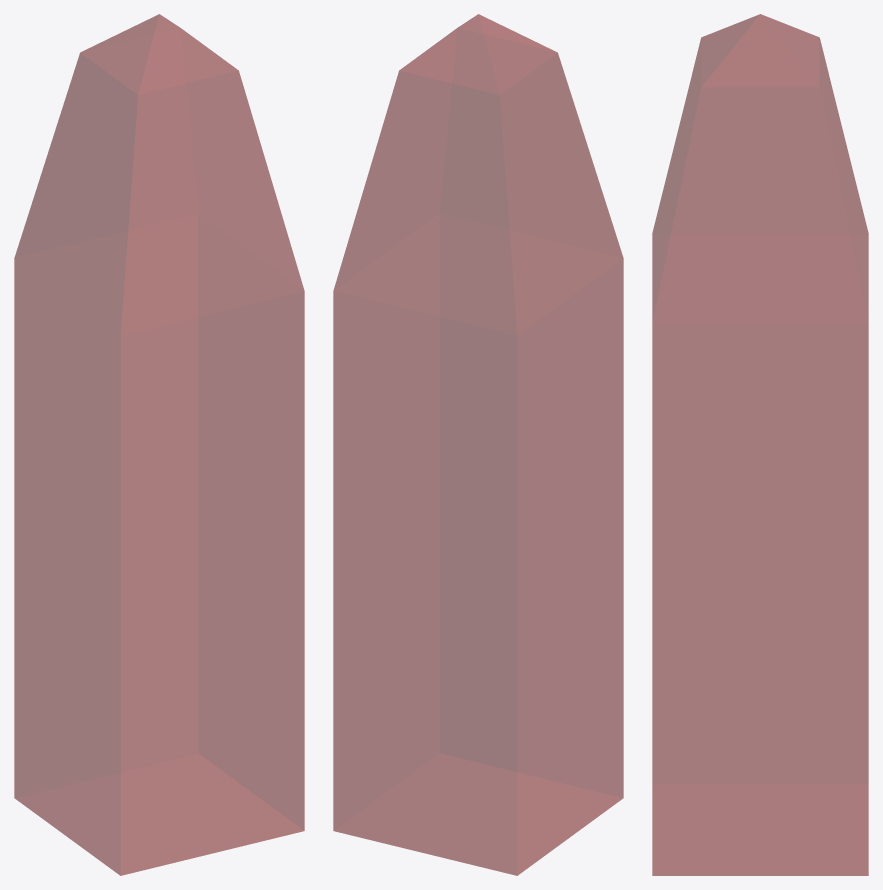
File: SM_Bld_Background_Tower_02_Collision.fbx
The picture shows the model from 3 angles, left to right: view 1: azimuth 30°, elevation 25°; view 2: azimuth 150°, elevation 25°; view 3: azimuth 270°, elevation 25°; orthographic projection.
Parts seen in each view (by area): view 1: SM_Bld_Background_Tower_02_Collision; view 2: SM_Bld_Background_Tower_02_Collision; view 3: SM_Bld_Background_Tower_02_Collision.
Part boxes in pixels (x1,y1,x2,y2): SM_Bld_Background_Tower_02_Collision: (14,14,304,875); SM_Bld_Background_Tower_02_Collision: (333,14,623,875); SM_Bld_Background_Tower_02_Collision: (652,14,868,875).
Bounding box in the file's own units: 364 × 1512 × 364.
